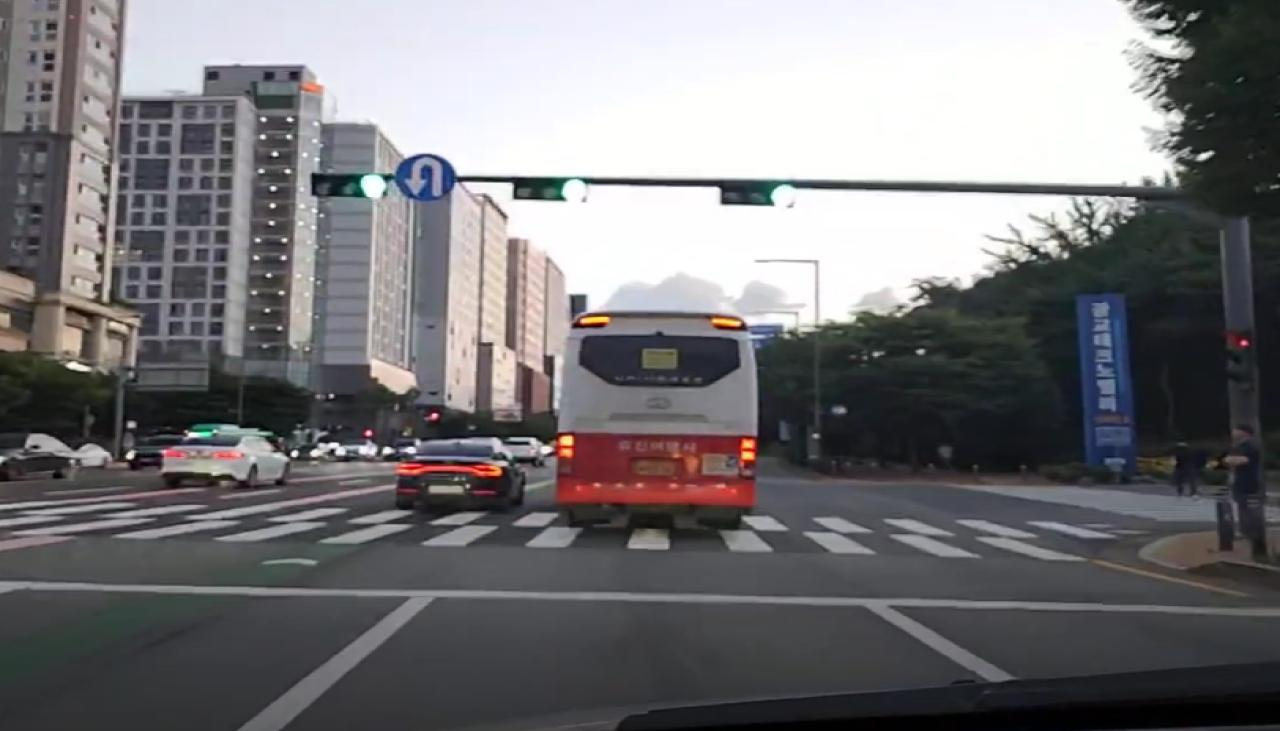Green Light: (356, 172, 390, 200), (765, 182, 799, 209), (560, 179, 590, 202)
